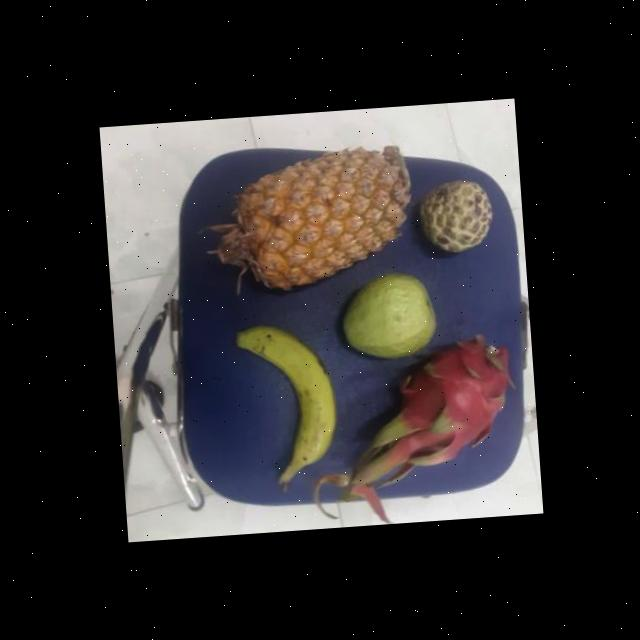Sakya fruit: (418, 178, 492, 258)
banana: (241, 324, 339, 490)
guava: (338, 270, 436, 366)
pineapple: (224, 150, 413, 294)
pitaya: (387, 338, 515, 466)
